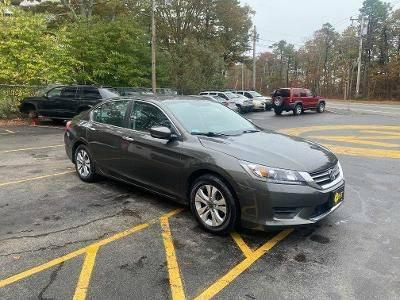Front_Bumper: (233, 175, 349, 228)
Front_Fender: (179, 134, 250, 208)
Front_Right_Door: (124, 127, 183, 201)
Front_Right_Window: (130, 101, 180, 138)
Front_Windshield: (165, 102, 261, 137)
Grille: (301, 158, 347, 188)
Hood: (197, 127, 338, 170)
Rear_Fender: (65, 106, 101, 161)
Rear_Right_Door: (88, 123, 129, 182)
Rear_Right_Window: (94, 102, 137, 129)
Right_Headlight: (240, 159, 309, 185)
Roof: (74, 97, 213, 139)
Wheel: (189, 174, 242, 231), (75, 146, 94, 180)
